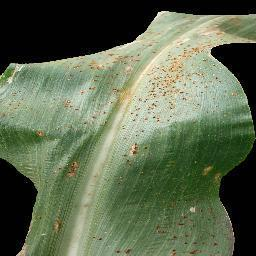Corn_Common_Rust: (122, 6, 256, 111), (152, 202, 237, 256), (57, 44, 121, 113), (0, 59, 28, 122), (122, 110, 150, 166), (192, 159, 225, 186), (79, 113, 111, 130), (58, 156, 78, 180), (151, 111, 177, 128), (51, 209, 62, 236), (109, 245, 134, 255), (35, 122, 44, 139), (90, 234, 106, 243)
